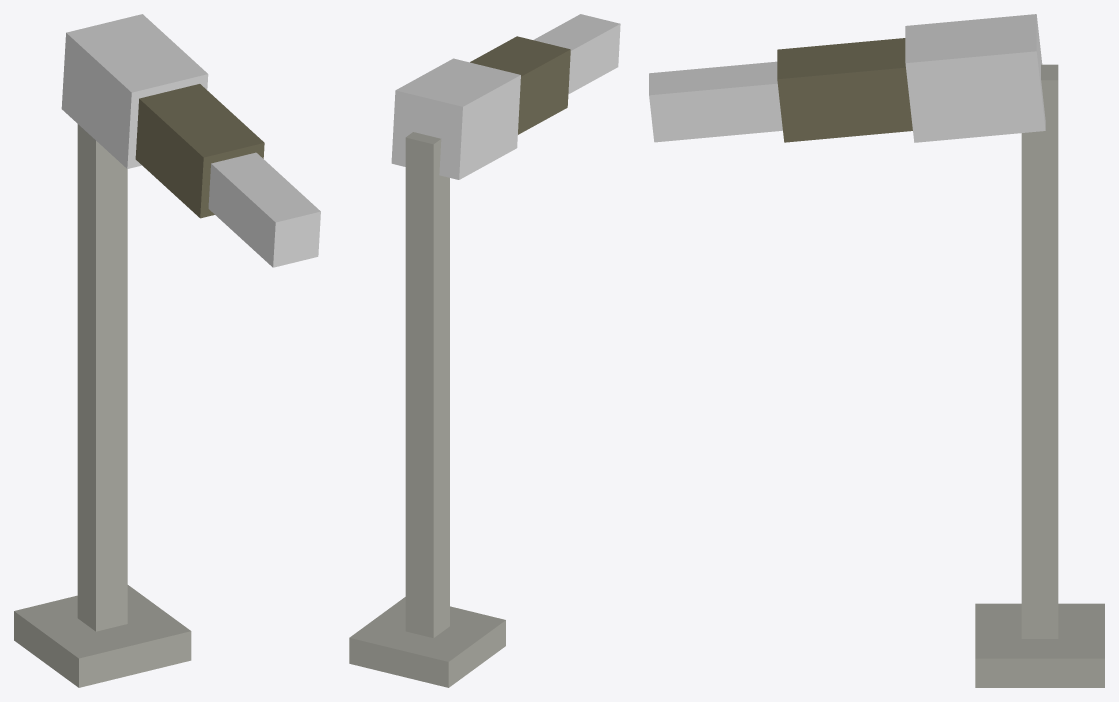
Rendered from SM_MangaViento_v4_Base_LOD1.fbx.
3 views of the same model, side by side, from view 1: azimuth 30°, elevation 25°; view 2: azimuth 150°, elevation 25°; view 3: azimuth 270°, elevation 25° (orthographic). The views are drawn at different scales.
Visible parts, largest first — view 1: SM_ambiente_aerodromo_v4_LOD1; view 2: SM_ambiente_aerodromo_v4_LOD1; view 3: SM_ambiente_aerodromo_v4_LOD1.
Part boxes in pixels (box(x1,y1,x2,y2)): SM_ambiente_aerodromo_v4_LOD1: box(14, 14, 320, 687); SM_ambiente_aerodromo_v4_LOD1: box(349, 14, 620, 687); SM_ambiente_aerodromo_v4_LOD1: box(649, 14, 1104, 687).
Bounding box in the file's own units: 1.2 × 6.41 × 4.22.
